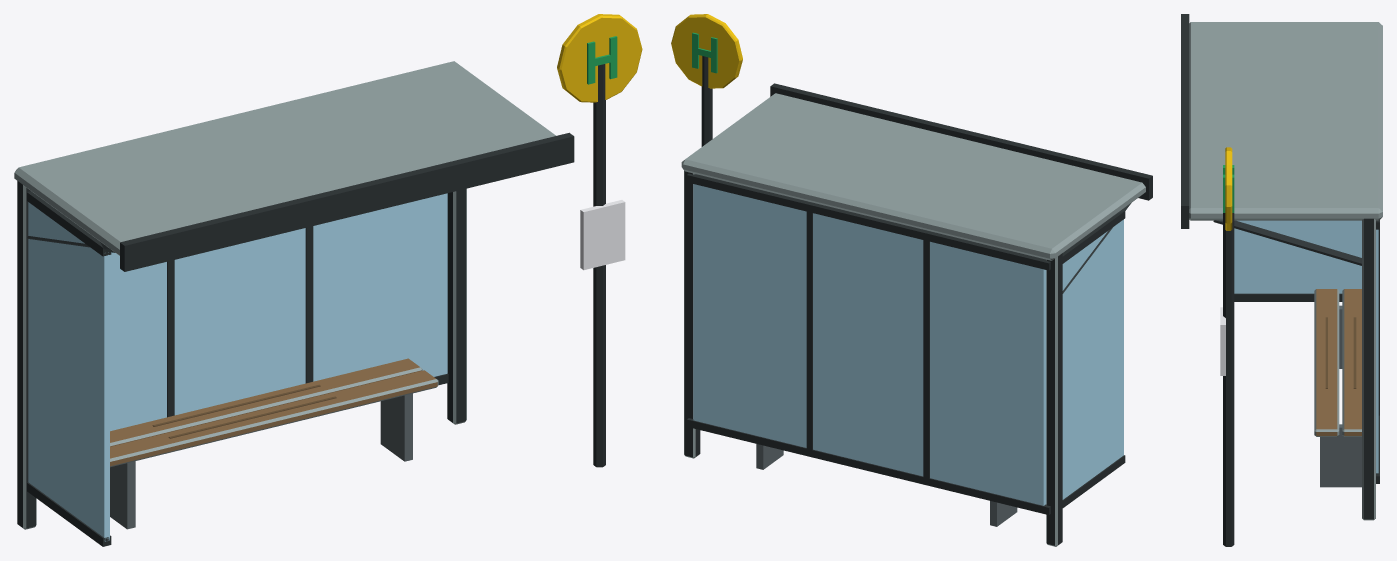
Rendered from busStop.glb.
The picture shows the model from 3 angles, left to right: view 1: azimuth 30°, elevation 25°; view 2: azimuth 150°, elevation 25°; view 3: azimuth 270°, elevation 25°; orthographic projection. The views are drawn at different scales.
Parts seen in each view (by area): view 1: busStop-m; view 2: busStop-m; view 3: busStop-m.
Part boxes in pixels (<box>): busStop-m: <box>14,14,642,546</box>; busStop-m: <box>671,14,1152,546</box>; busStop-m: <box>1181,14,1382,546</box>.
Size of the model in its own units: 3.92 by 3.1 by 1.44.
